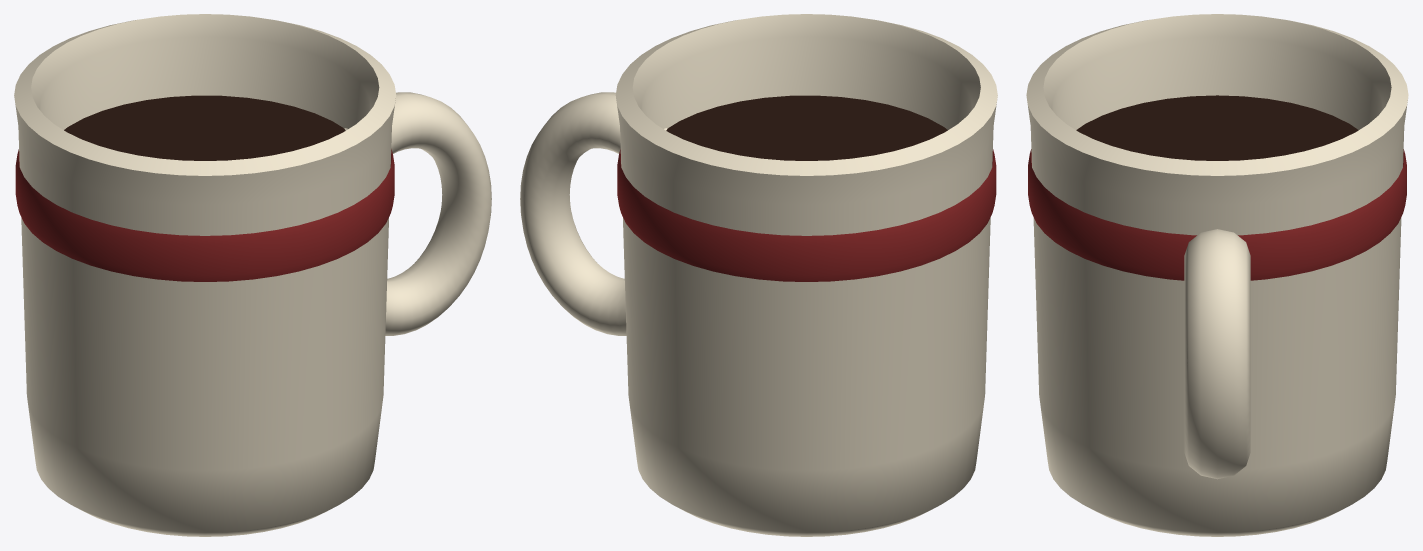
File: mug.fbx
3 renders of one model, left to right at view 1: azimuth 30°, elevation 25°; view 2: azimuth 150°, elevation 25°; view 3: azimuth 270°, elevation 25°, orthographic.
Parts seen in each view (by area): view 1: body, stripe, handle, coffee; view 2: body, stripe, handle, coffee; view 3: body, handle, stripe, coffee.
Boxes of the visible parts, <box> form: body: <box>14,14,396,536</box>; stripe: <box>15,149,394,281</box>; handle: <box>344,92,491,335</box>; coffee: <box>64,95,345,160</box>; body: <box>615,14,997,536</box>; stripe: <box>617,149,996,281</box>; handle: <box>520,92,667,335</box>; coffee: <box>666,95,947,160</box>; body: <box>1026,14,1408,536</box>; handle: <box>1184,229,1250,479</box>; stripe: <box>1028,149,1406,280</box>; coffee: <box>1076,95,1358,160</box>.
Size of the model in its own units: 0.1214 by 0.1 by 0.09.
